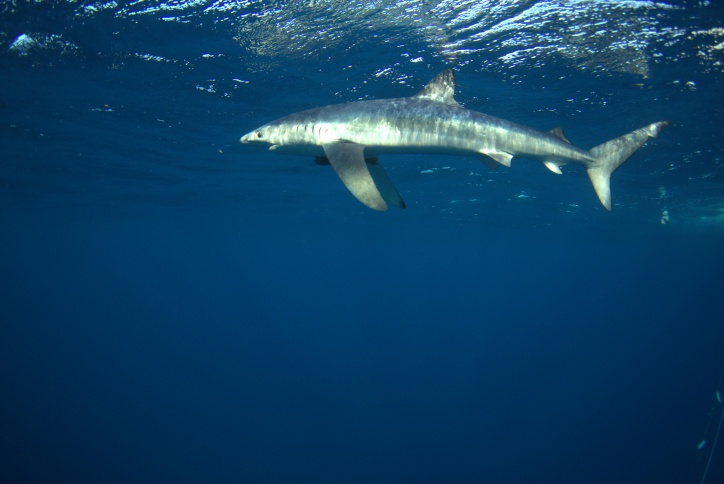Azul: (225, 56, 674, 233)
